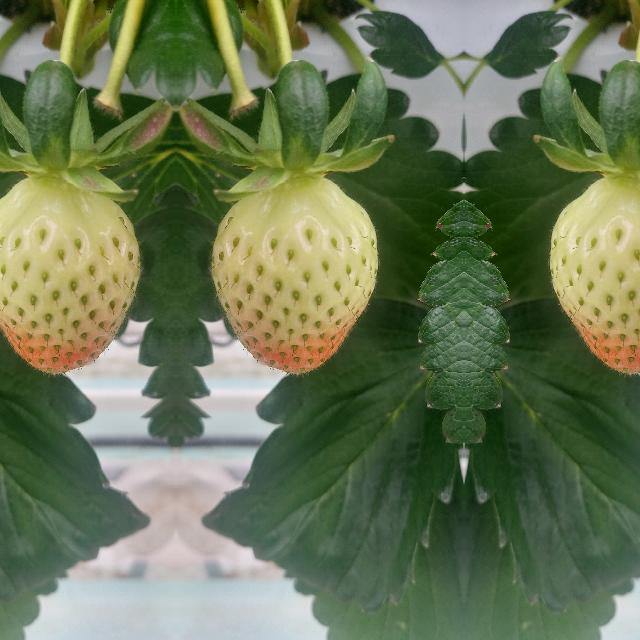Health_50: (210, 178, 376, 374), (0, 178, 140, 373), (550, 178, 640, 373)
